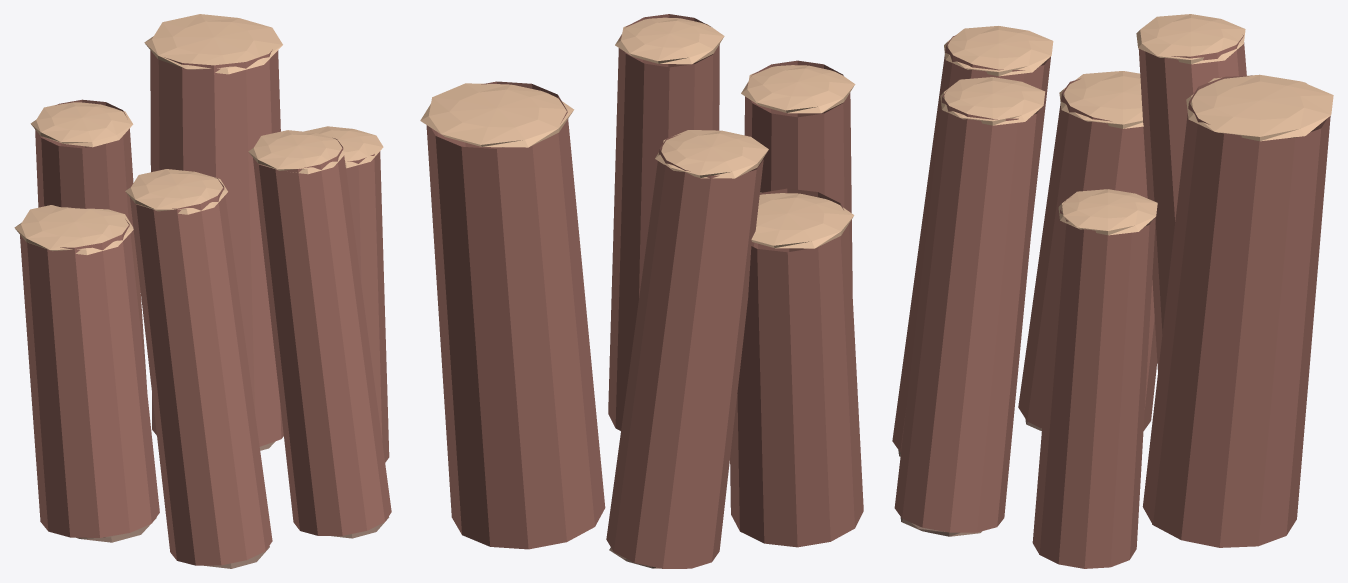
The model's file is mahogany.glb.
3 views of the same model, side by side, from view 1: azimuth 30°, elevation 25°; view 2: azimuth 150°, elevation 25°; view 3: azimuth 270°, elevation 25° (orthographic). The views are drawn at different scales.
Visible parts, largest first — view 1: mahogany; view 2: mahogany; view 3: mahogany.
Part boxes in pixels (left/top/right/bottom): mahogany: left=14, top=14, right=391, bottom=568; mahogany: left=420, top=14, right=863, bottom=568; mahogany: left=892, top=14, right=1333, bottom=568.
Bounding box in the file's own units: 0.7934 × 0.8425 × 0.7915.
